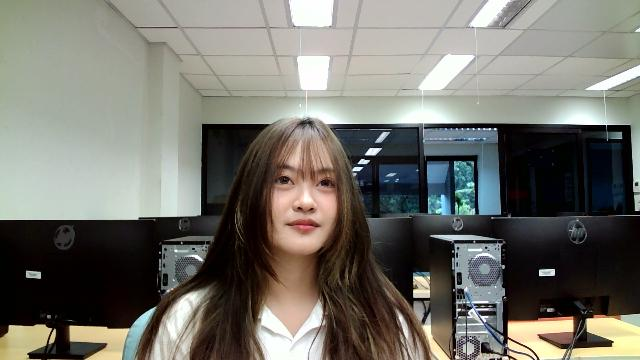fokus: (250, 125, 355, 252)
